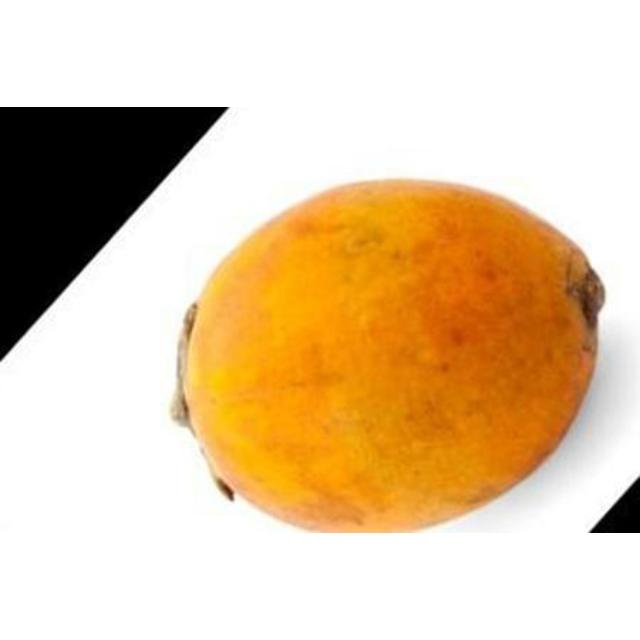good: (176, 180, 607, 532)
